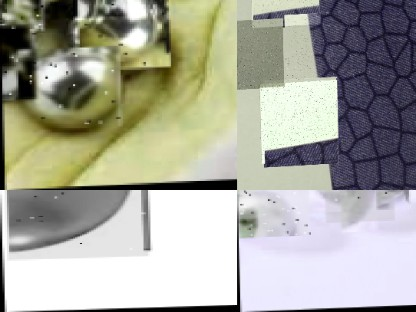ironball: (4, 190, 148, 260), (16, 46, 121, 131), (75, 0, 172, 70), (235, 189, 309, 237), (0, 24, 36, 100), (6, 0, 50, 27), (72, 0, 127, 19)
